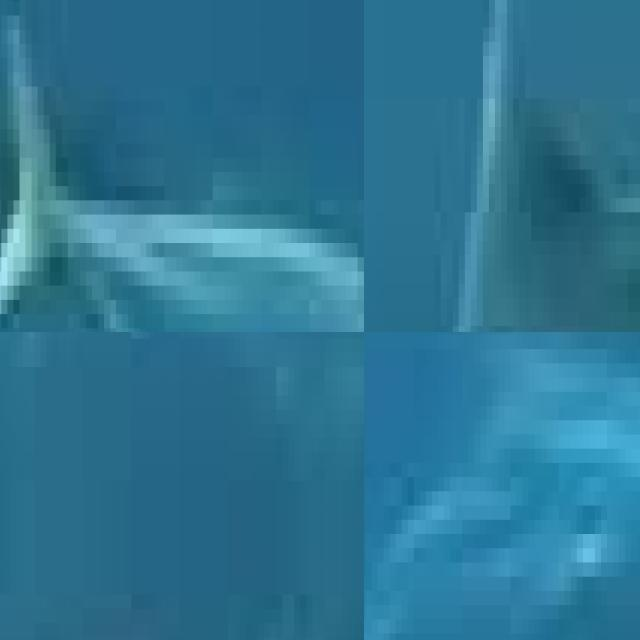fish: (0, 1, 364, 332)
